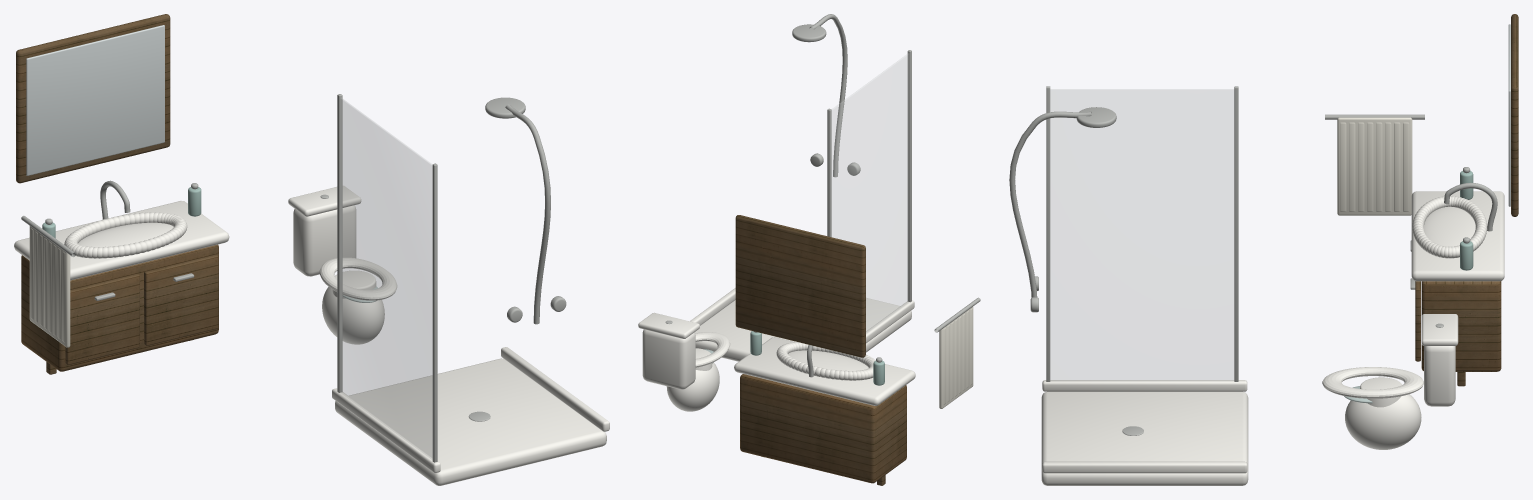
File: home_bathroom_fixtures.glb
The picture shows the model from 3 angles, left to right: view 1: azimuth 30°, elevation 25°; view 2: azimuth 150°, elevation 25°; view 3: azimuth 270°, elevation 25°; orthographic projection. The views are drawn at different scales.
Visible parts, largest first — view 1: base_vaso, Cube.015, Cube.002, Cube.011, acionamento, Cube.018; view 2: Cube.002, base_vaso, Cube.015, acionamento, Cube.018, frasco_sabonete; view 3: Cube.015, base_vaso, Cube.002, Cube.018, acionamento, frasco_sabonete, Cube.011.
Boxes of the visible parts, x1,y1,x2,y2 form: base_vaso: [14, 185, 609, 485]; Cube.015: [341, 98, 432, 458]; Cube.002: [16, 14, 218, 374]; Cube.011: [26, 25, 164, 175]; acionamento: [21, 94, 566, 462]; Cube.018: [29, 226, 70, 347]; Cube.002: [735, 215, 906, 485]; base_vaso: [638, 288, 915, 411]; Cube.015: [832, 53, 908, 332]; acionamento: [665, 14, 980, 377]; Cube.018: [939, 306, 973, 408]; frasco_sabonete: [750, 331, 884, 385]; Cube.015: [1050, 89, 1233, 380]; base_vaso: [1041, 191, 1504, 485]; Cube.002: [1415, 14, 1518, 386]; Cube.018: [1337, 117, 1412, 215]; acionamento: [1009, 86, 1497, 435]; frasco_sabonete: [1460, 171, 1473, 270]; Cube.011: [1508, 24, 1510, 206].
Size of the model in its own units: 2.72 by 2.25 by 3.06.
Materials: 8 (1 with a texture image).
